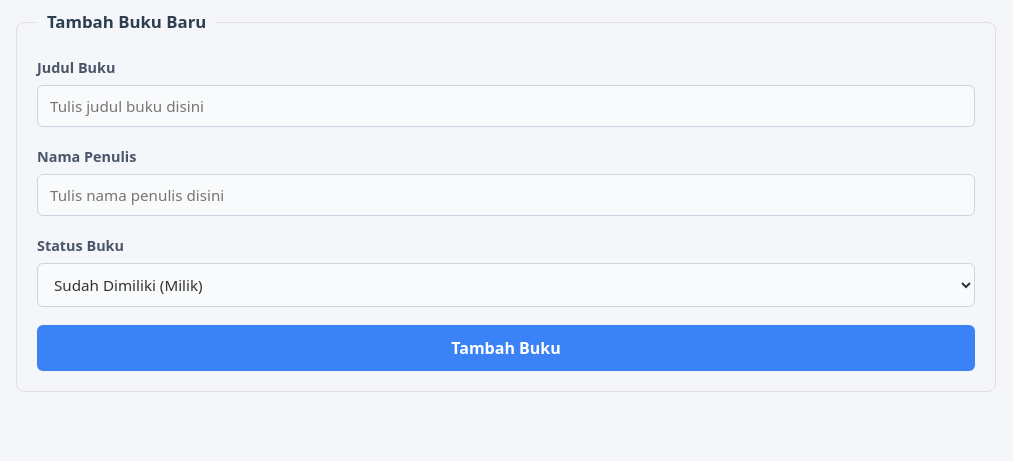
Test case: Komponen BookForm › menampilkan pesan error validasi ketika form disubmit dalam keadaan kosong
What coordinates should you click on to do the following:
click the button "Tambah Buku"
I would click on:
 (506, 348)
Its box is [37,325,975,371].
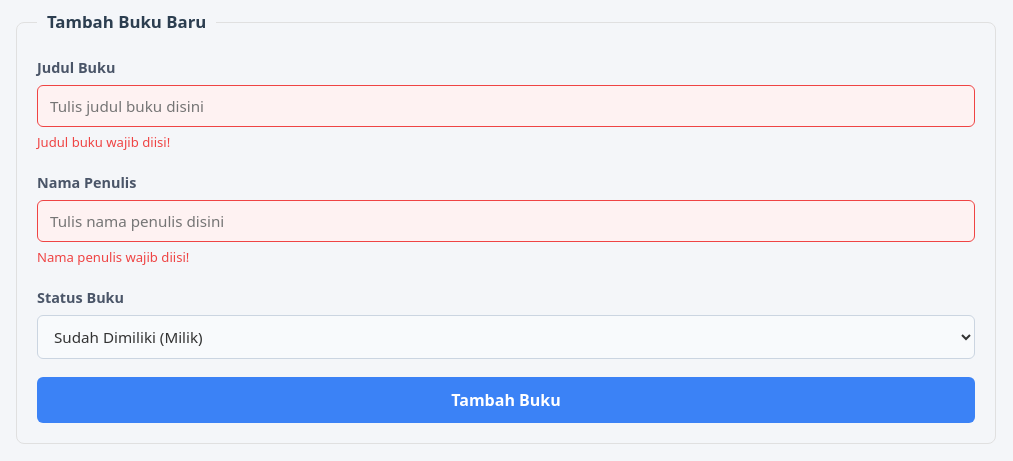
expect the text "Judul buku wajib diisi!" is shown: met, box [37,133,170,151]
expect the text "Nama penulis wajib diisi!" is shown: met, box [37,248,189,266]
